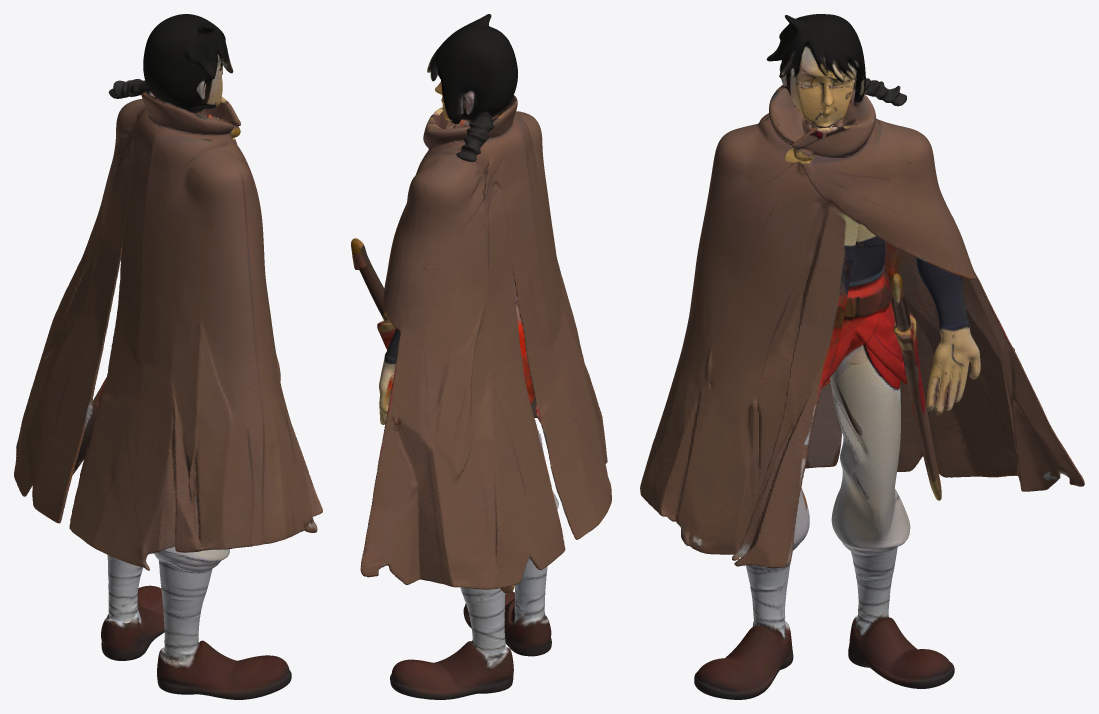
Rendered from tripo_convert_4c4a7e45-1bb3-467b-a804-e9ec568ea417.glb.
3 renders of one model, left to right at view 1: azimuth 30°, elevation 25°; view 2: azimuth 150°, elevation 25°; view 3: azimuth 270°, elevation 25°, orthographic. The views are drawn at different scales.
Visible parts, largest first — view 1: tripo_node_4c4a7e45-1bb3-467b-a804-e9ec568ea417; view 2: tripo_node_4c4a7e45-1bb3-467b-a804-e9ec568ea417; view 3: tripo_node_4c4a7e45-1bb3-467b-a804-e9ec568ea417.
Boxes of the visible parts, x1,y1,x2,y2 form: tripo_node_4c4a7e45-1bb3-467b-a804-e9ec568ea417: (14, 14, 322, 699); tripo_node_4c4a7e45-1bb3-467b-a804-e9ec568ea417: (351, 14, 611, 699); tripo_node_4c4a7e45-1bb3-467b-a804-e9ec568ea417: (640, 14, 1084, 699).
Size of the model in its own units: 0.3399 by 1 by 0.6057.
1 material, 1 textured.
